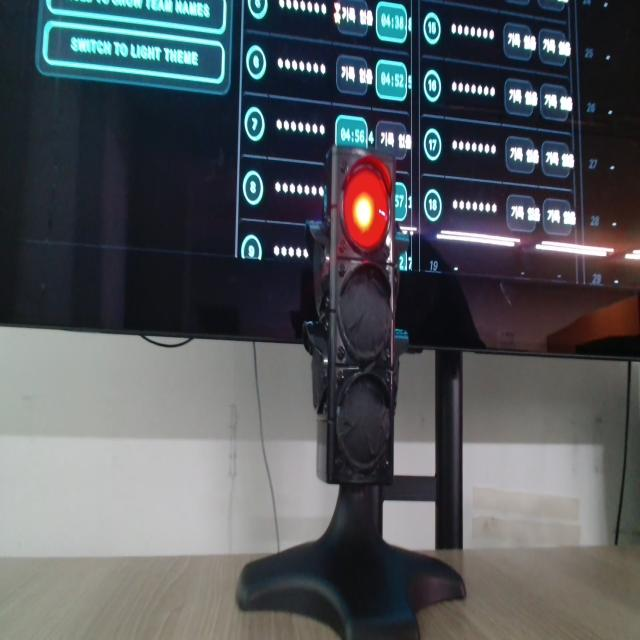red_light: (343, 159, 389, 250)
